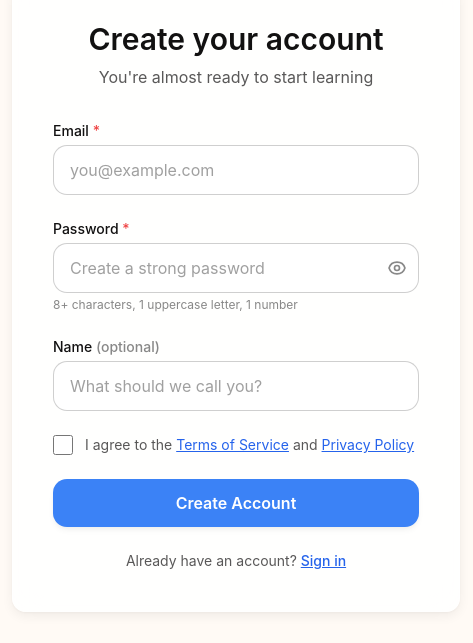
it: AccountCreationPage › form validation › shows error when email is empty on blur
Click the field labelled "Email *".
click(236, 170)  # box [53,145,419,195]
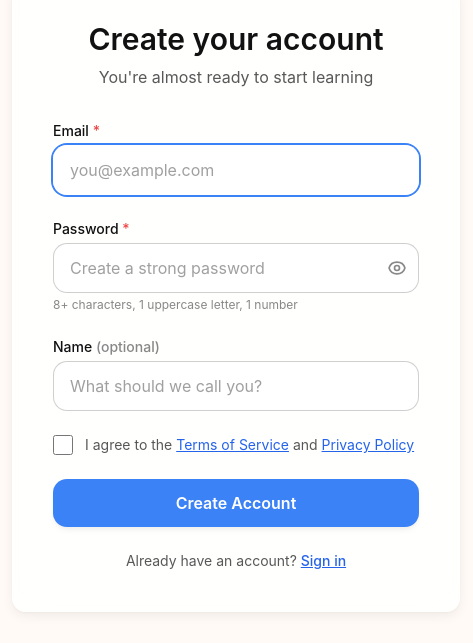
Press Tab
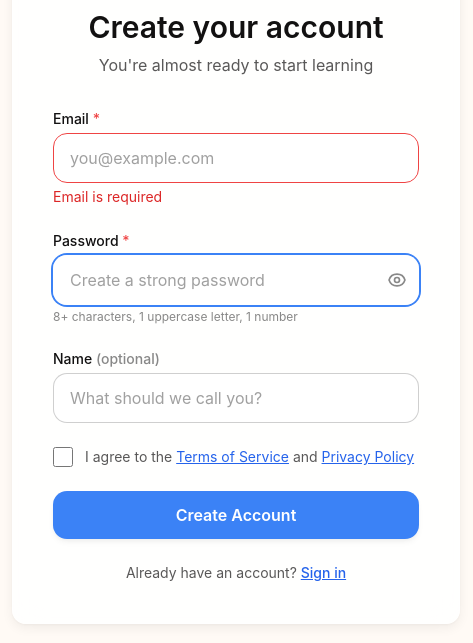
Expected: the text "Email is required" is shown, [53,188,162,205]
